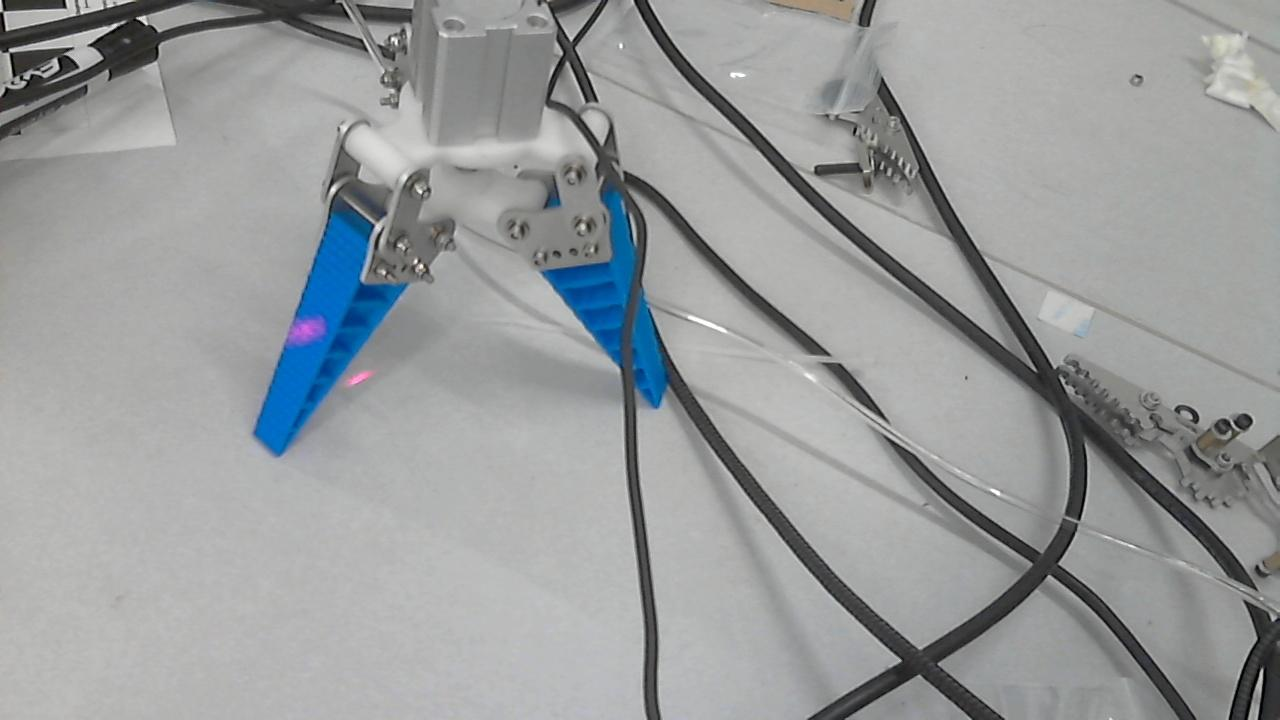Object robotic gripper finger assembly - Material plastic - Color blue - Pdfname: (272, 312, 354, 362)
